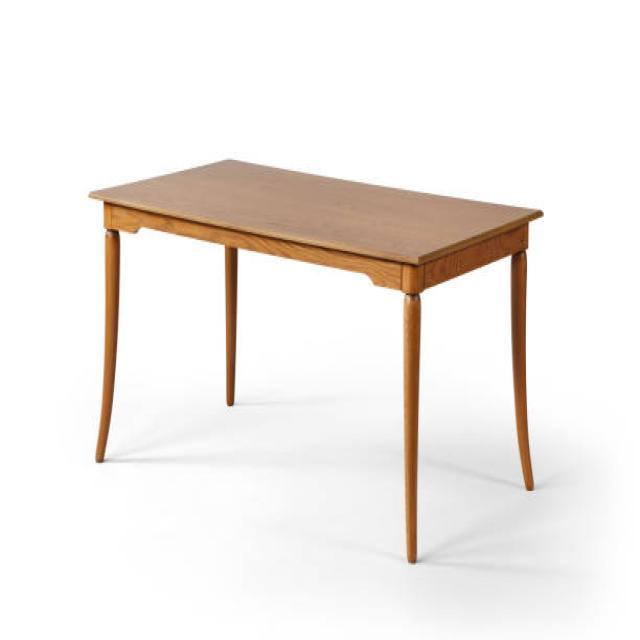table: (87, 155, 544, 563)
